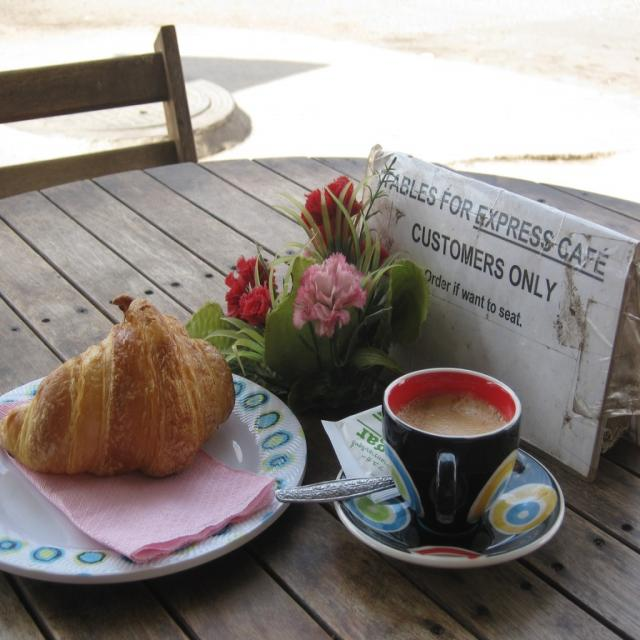Coffee: (388, 390, 503, 439)
Tea: (396, 392, 503, 437)
